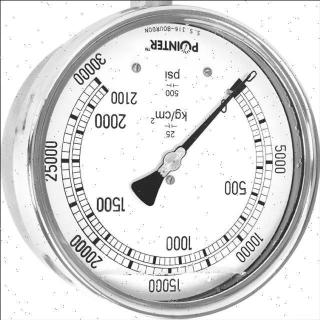gauge: (29, 0, 320, 320), (225, 68, 255, 99), (78, 66, 111, 92), (161, 150, 181, 172), (240, 69, 256, 83)
